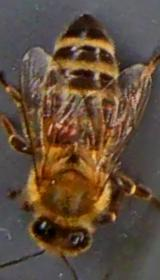varroa_mite: (48, 118, 76, 142)
